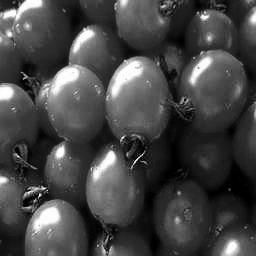bukan telur: (107, 55, 173, 139), (179, 52, 247, 131), (86, 143, 145, 227), (48, 67, 105, 144), (156, 181, 209, 249), (15, 0, 69, 66)
